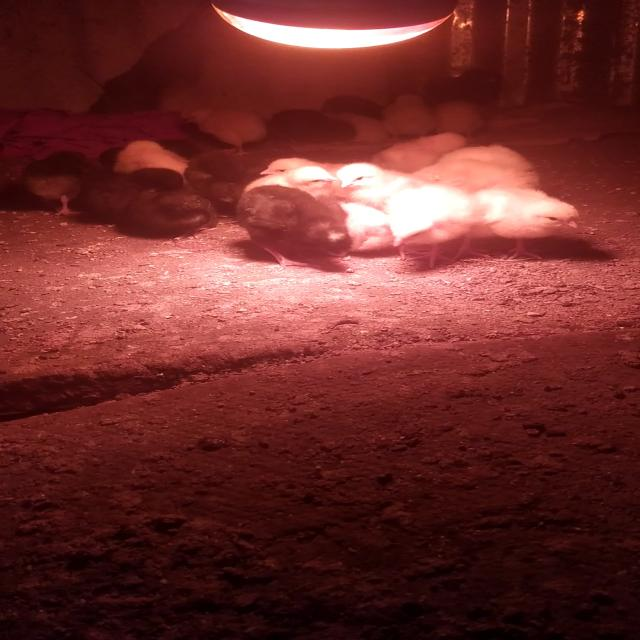chick: (230, 186, 356, 273), (377, 183, 500, 269), (91, 168, 222, 241), (472, 181, 586, 262), (432, 142, 538, 198), (16, 148, 93, 217), (359, 132, 470, 172), (175, 107, 268, 154), (270, 108, 358, 154), (335, 162, 422, 206), (241, 164, 339, 202), (378, 91, 440, 140), (110, 141, 190, 178), (435, 99, 486, 144), (256, 158, 357, 174)
